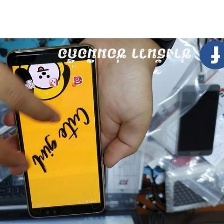phone: (3, 41, 108, 221), (172, 80, 223, 159)
